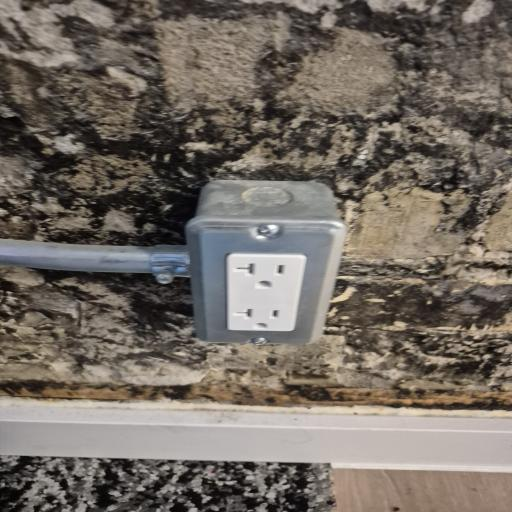outlet: (205, 224, 324, 336)
